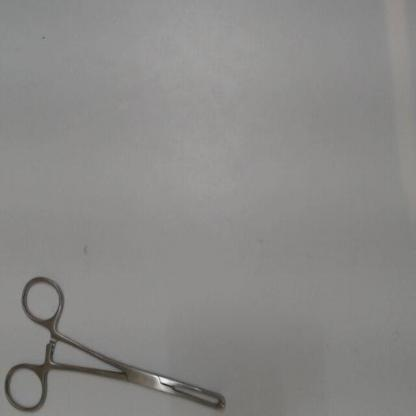Allis Tissue Forceps: (1, 268, 236, 415)
